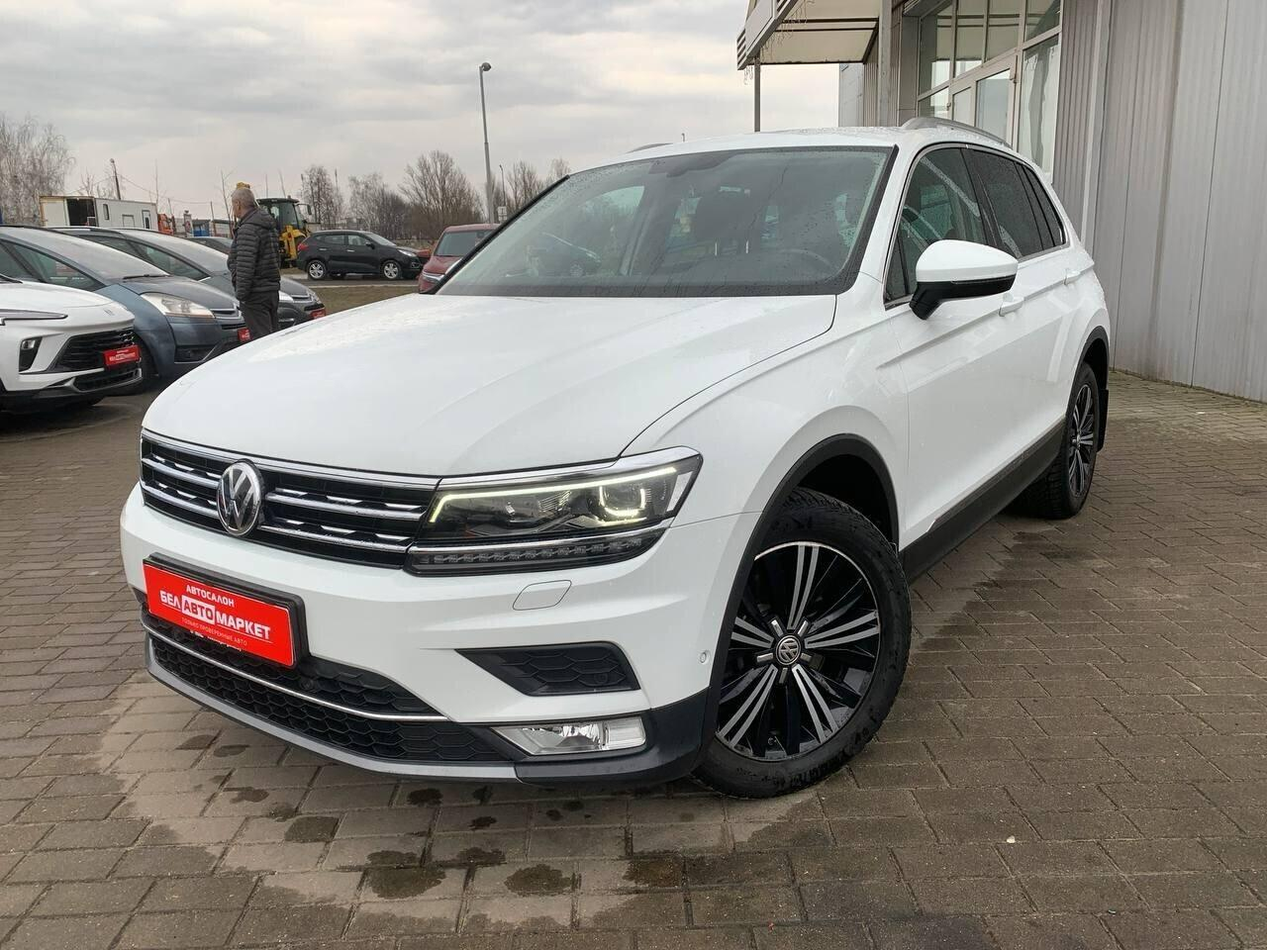Tiguan_2016-2021: (113, 124, 1121, 800)
